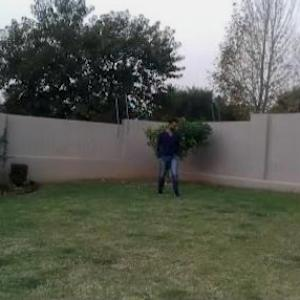follow: (156, 111, 182, 199)
